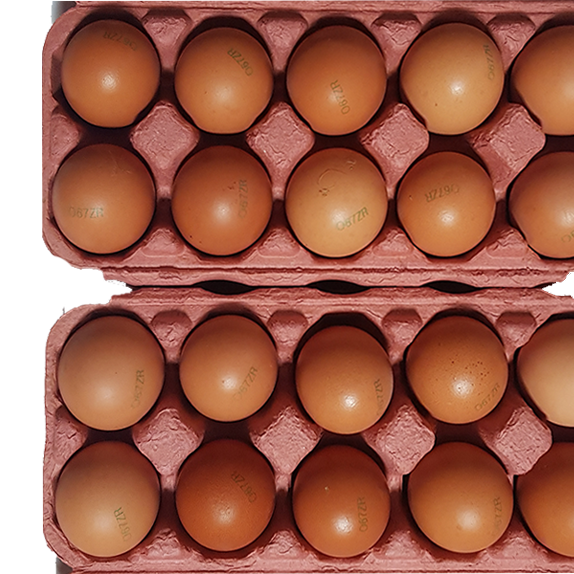egg: (53, 16, 574, 271), (53, 312, 574, 562)
